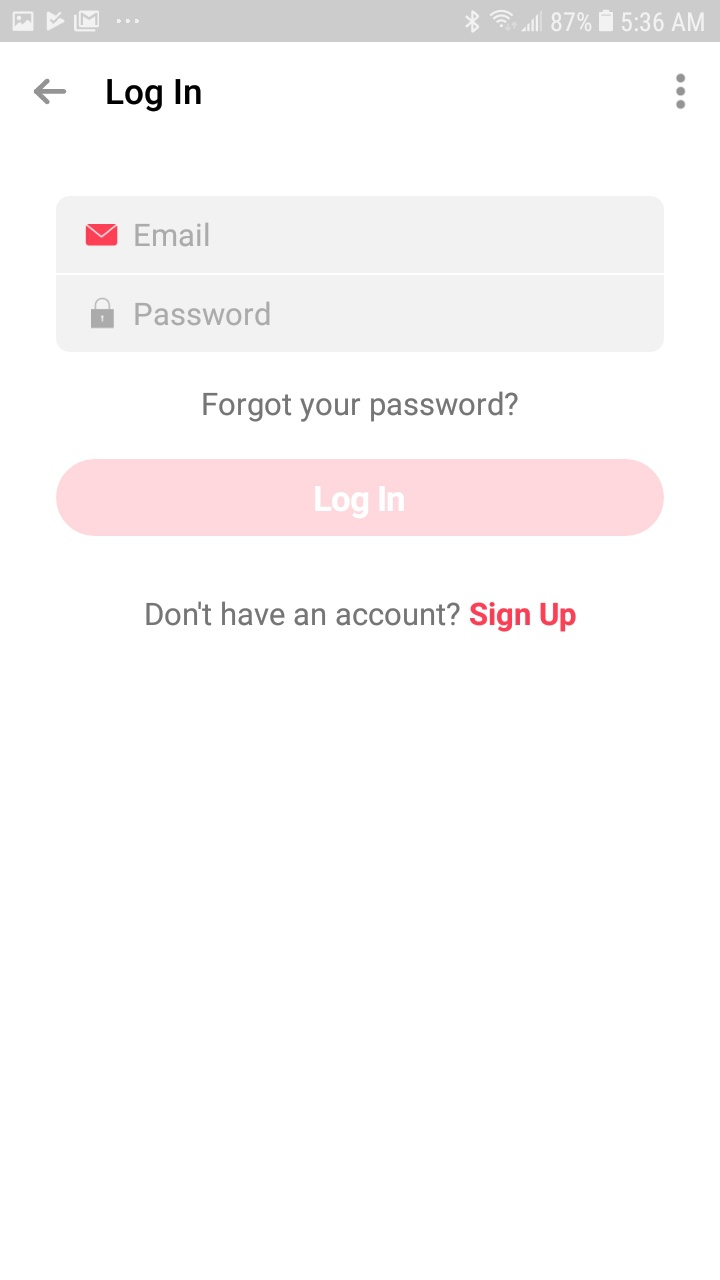EditText: (56, 275, 664, 353), (56, 197, 664, 274)
Icon: (34, 79, 67, 105), (91, 298, 116, 330), (86, 224, 119, 247), (675, 73, 686, 111)
Text: (146, 600, 577, 633), (203, 391, 519, 423), (135, 301, 271, 329), (107, 79, 202, 113), (134, 223, 210, 249)
TextButton: (56, 459, 665, 537)
UpperTaskBar: (1, 1, 720, 43)
